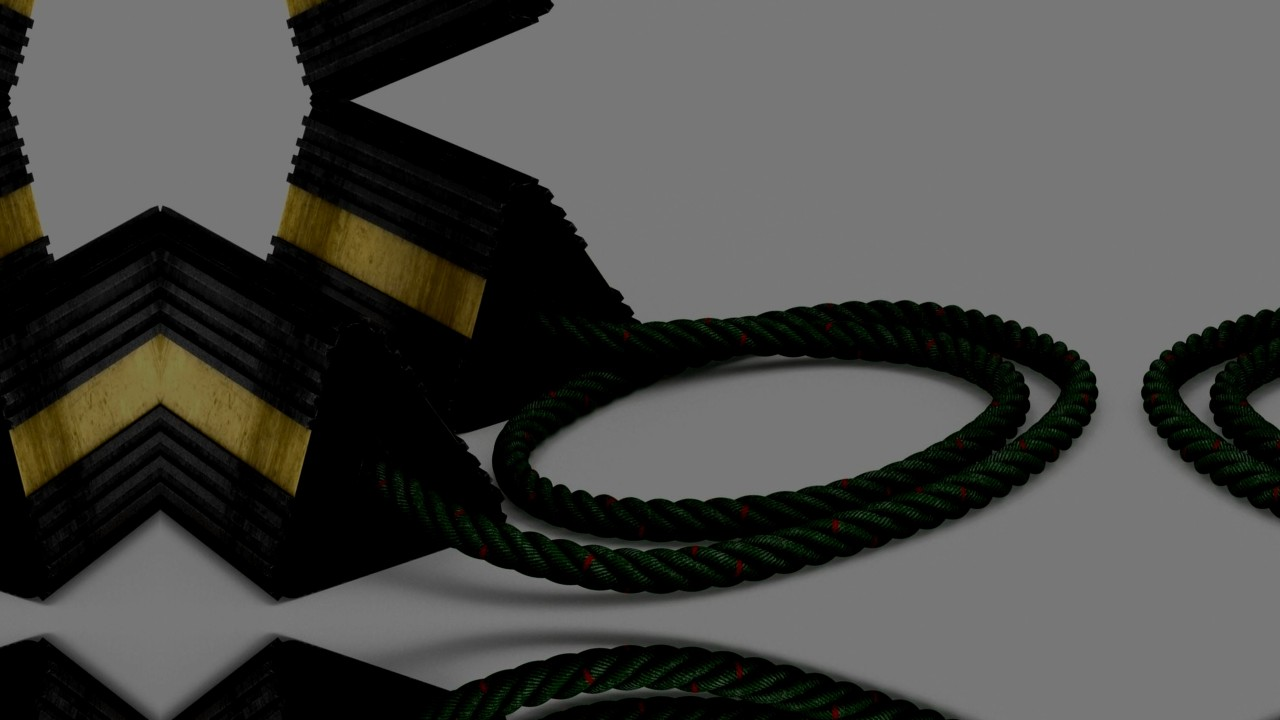chock: (160, 155, 515, 619), (242, 101, 667, 461), (0, 155, 160, 619), (242, 0, 667, 101), (160, 619, 515, 720), (0, 101, 78, 461)
